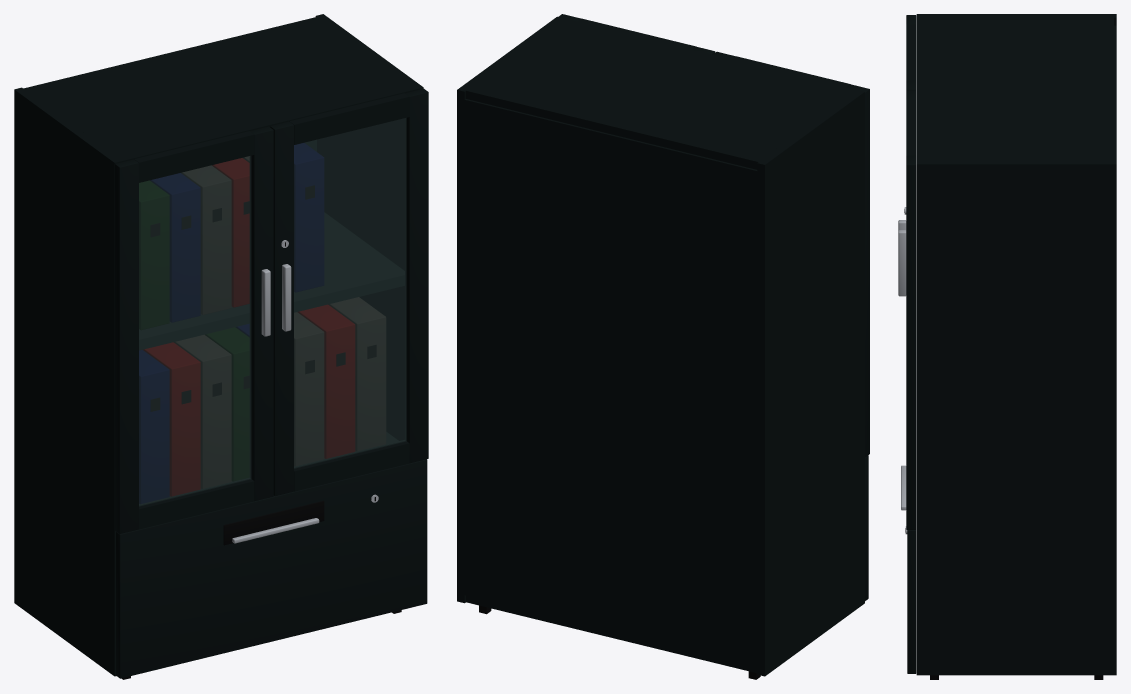
File: cabinet.gltf
3 views of the same model, side by side, from view 1: azimuth 30°, elevation 25°; view 2: azimuth 150°, elevation 25°; view 3: azimuth 270°, elevation 25° (orthographic).
Parts seen in each view (by area): view 1: Anthracite steel carcass - Powder-coated steel, anthracite, Left lockable glass door, hinged, Right lockable glass door, hinged, Suspension-file drawer (closed), Lever-arch files (plain, no labels) - File, grey board, Lever-arch files (plain, no labels) - File, blue board, Lever-arch files (plain, no labels) - File, red board, Lever-arch files (plain, no labels) - File, green board, Adjustable steel shelf - Powder-coated steel, anthracite, Lever-arch files (plain, no labels) - Black plastic / rubber; view 2: Anthracite steel carcass - Powder-coated steel, anthracite, Left lockable glass door, hinged, Right lockable glass door, hinged; view 3: Anthracite steel carcass - Powder-coated steel, anthracite, Right lockable glass door, hinged, Suspension-file drawer (closed), Left lockable glass door, hinged.
Boxes of the visible parts, bbox=[...] form: Anthracite steel carcass - Powder-coated steel, anthracite: bbox=[14, 14, 423, 676]; Left lockable glass door, hinged: bbox=[115, 126, 273, 533]; Right lockable glass door, hinged: bbox=[270, 88, 428, 495]; Suspension-file drawer (closed): bbox=[116, 459, 427, 678]; Lever-arch files (plain, no labels) - File, grey board: bbox=[173, 156, 386, 488]; Lever-arch files (plain, no labels) - File, blue board: bbox=[139, 143, 324, 504]; Lever-arch files (plain, no labels) - File, red board: bbox=[143, 158, 355, 496]; Lever-arch files (plain, no labels) - File, green board: bbox=[139, 180, 249, 481]; Adjustable steel shelf - Powder-coated steel, anthracite: bbox=[139, 212, 404, 350]; Lever-arch files (plain, no labels) - Black plastic / rubber: bbox=[150, 185, 376, 411]; Anthracite steel carcass - Powder-coated steel, anthracite: bbox=[457, 16, 864, 676]; Left lockable glass door, hinged: bbox=[713, 51, 869, 457]; Right lockable glass door, hinged: bbox=[558, 14, 715, 54]; Anthracite steel carcass - Powder-coated steel, anthracite: bbox=[916, 14, 1116, 675]; Right lockable glass door, hinged: bbox=[898, 90, 916, 529]; Suspension-file drawer (closed): bbox=[901, 465, 916, 673]; Left lockable glass door, hinged: bbox=[898, 15, 916, 230].
Bounding box in the file's own units: 0.8 × 1.3 × 0.491.
8 materials, 8 textured.
